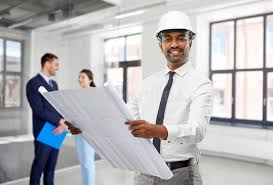Indian_Male: (157, 14, 196, 70)
